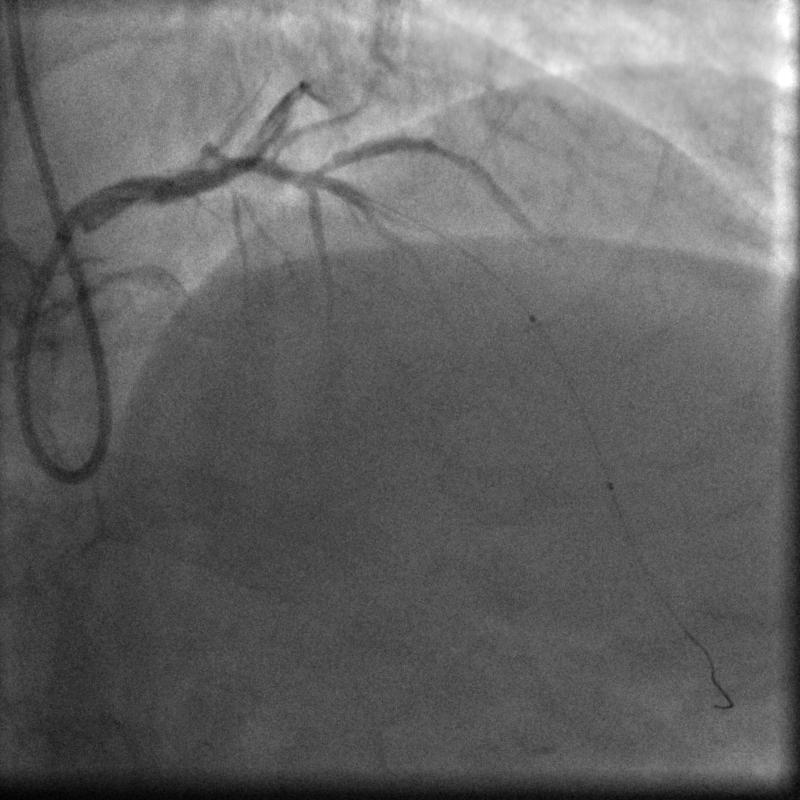Stenosis: (422, 127, 467, 177)
